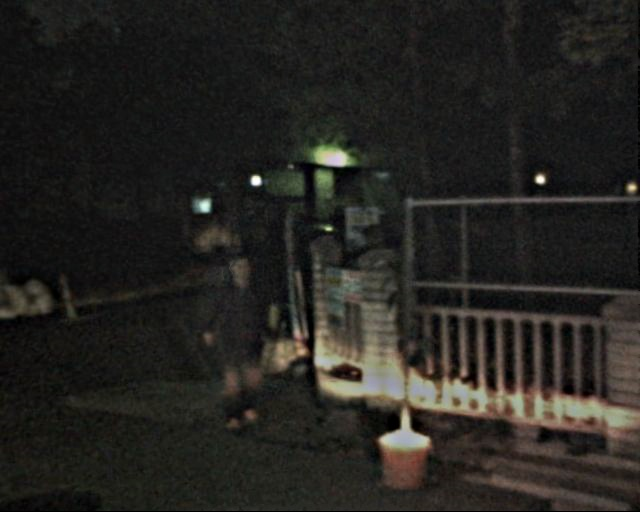person: (199, 245, 269, 435)
